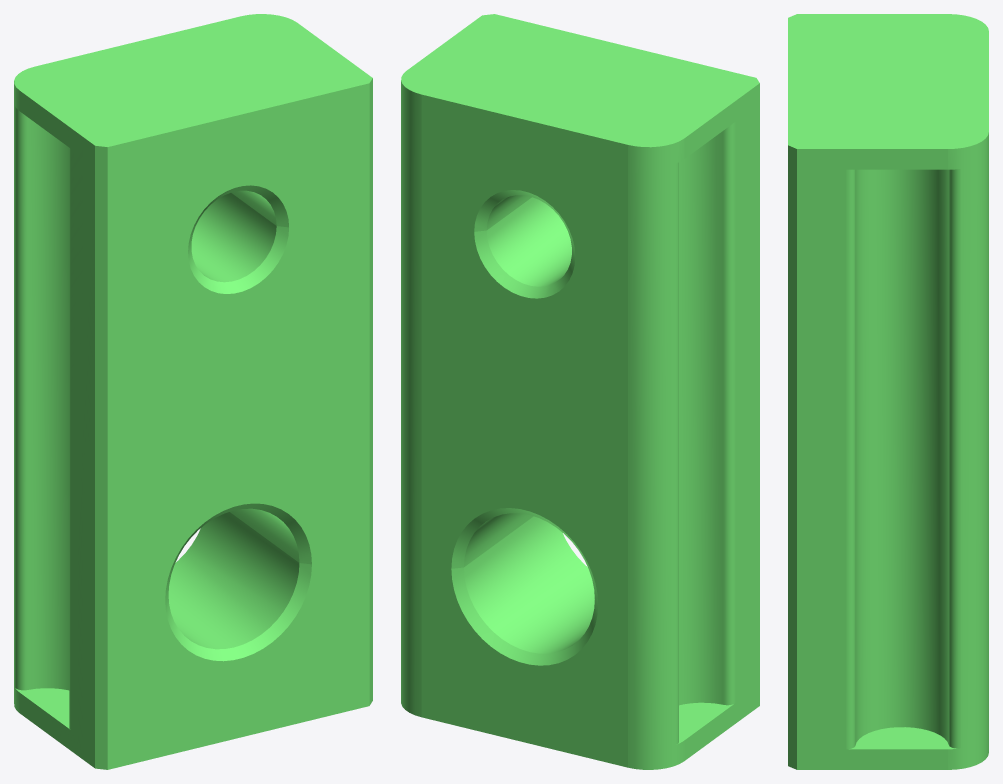
Rendered from linear-mechanism-2-ptfe-block.glb.
3 renders of one model, left to right at view 1: azimuth 30°, elevation 25°; view 2: azimuth 150°, elevation 25°; view 3: azimuth 270°, elevation 25°, orthographic.
Visible parts, largest first — view 1: FusionComponent; view 2: FusionComponent; view 3: FusionComponent.
Boxes of the visible parts, box(x1,y1,x2,y2) form: FusionComponent: box(14, 14, 372, 769); FusionComponent: box(401, 14, 759, 769); FusionComponent: box(788, 14, 988, 769).
Size of the model in its own units: 14 by 30 by 8.8.
